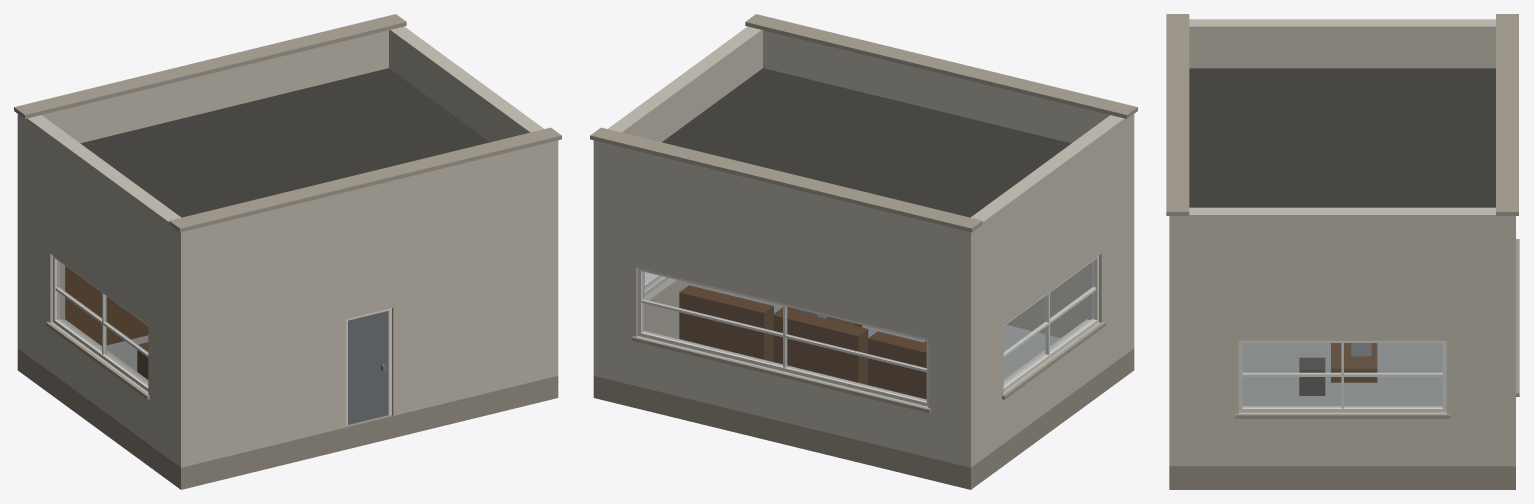
The model's file is gate_house.glb.
The picture shows the model from 3 angles, left to right: view 1: azimuth 30°, elevation 25°; view 2: azimuth 150°, elevation 25°; view 3: azimuth 270°, elevation 25°; orthographic projection. The views are drawn at different scales.
Parts seen in each view (by area): view 1: LOD0, LEAF0, FURN; view 2: LOD0, FURN; view 3: LOD0, FURN.
Boxes of the visible parts, left/top/right/bottom form: LOD0: left=14, top=14, right=561, bottom=489; LEAF0: left=348, top=311, right=387, bottom=424; FURN: left=65, top=266, right=148, bottom=379; LOD0: left=590, top=14, right=1137, bottom=489; FURN: left=679, top=285, right=926, bottom=399; LOD0: left=1166, top=14, right=1519, bottom=489; FURN: left=1299, top=343, right=1377, bottom=395.
Size of what is drawn, in the model's own units: 8.12 by 5.33 by 6.11.
